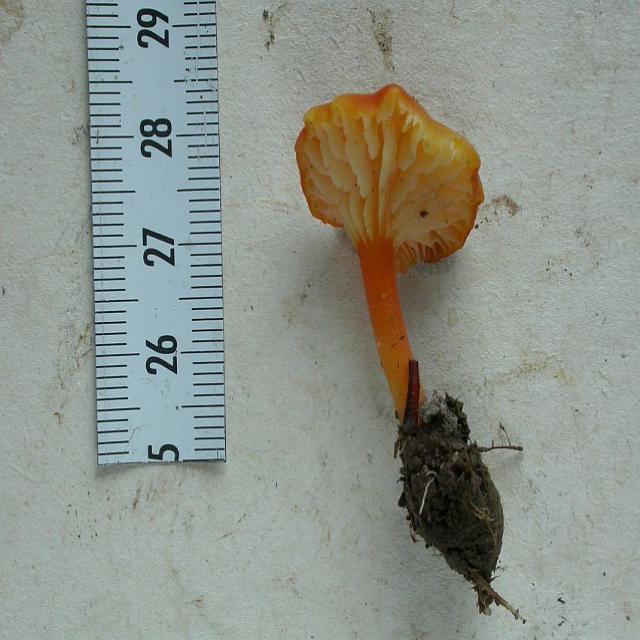Cantharellus cibarius: (297, 88, 504, 609)
